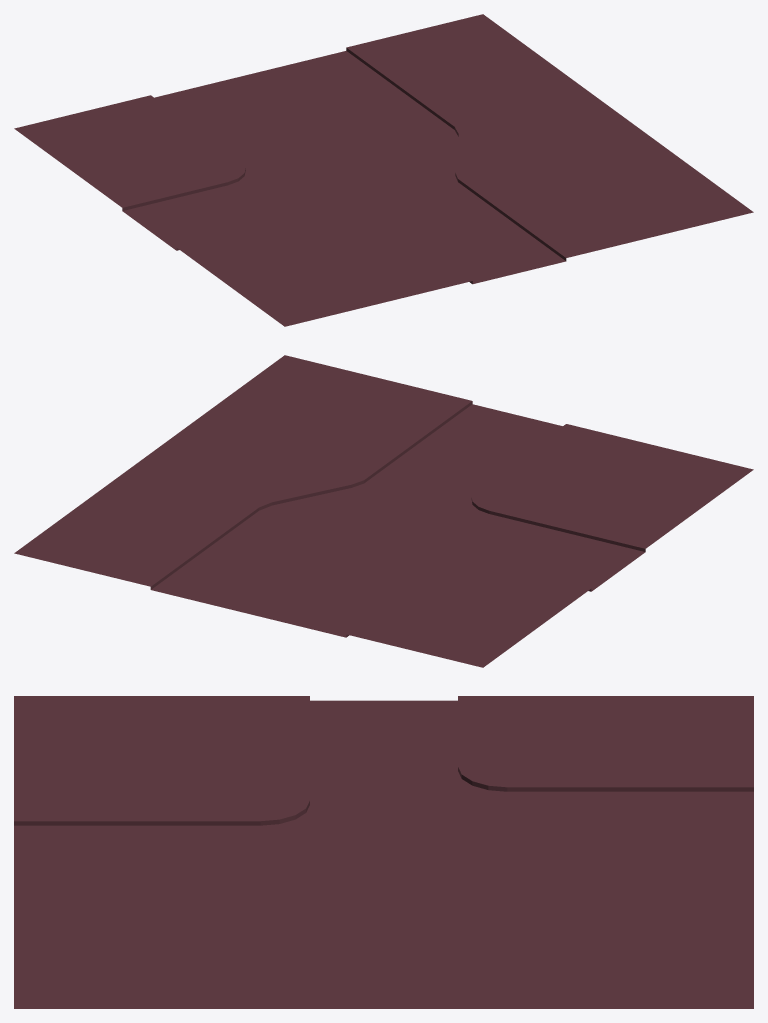
Rendered from tile-road-to-mainroad-intersection-t-nb.fbx.
The picture shows the model from 3 angles, top to bottom: view 1: azimuth 30°, elevation 25°; view 2: azimuth 150°, elevation 25°; view 3: azimuth 270°, elevation 25°; orthographic projection. The views are drawn at different scales.
Parts seen in each view (by area): view 1: tile-road-to-mainroad-intersection-t-nb; view 2: tile-road-to-mainroad-intersection-t-nb; view 3: tile-road-to-mainroad-intersection-t-nb.
Boxes of the visible parts, left/top/right/bottom form: tile-road-to-mainroad-intersection-t-nb: left=14, top=14, right=753, bottom=326; tile-road-to-mainroad-intersection-t-nb: left=14, top=355, right=753, bottom=667; tile-road-to-mainroad-intersection-t-nb: left=14, top=696, right=753, bottom=1008.
Size of the model in its own units: 30 by 0.2 by 30.
